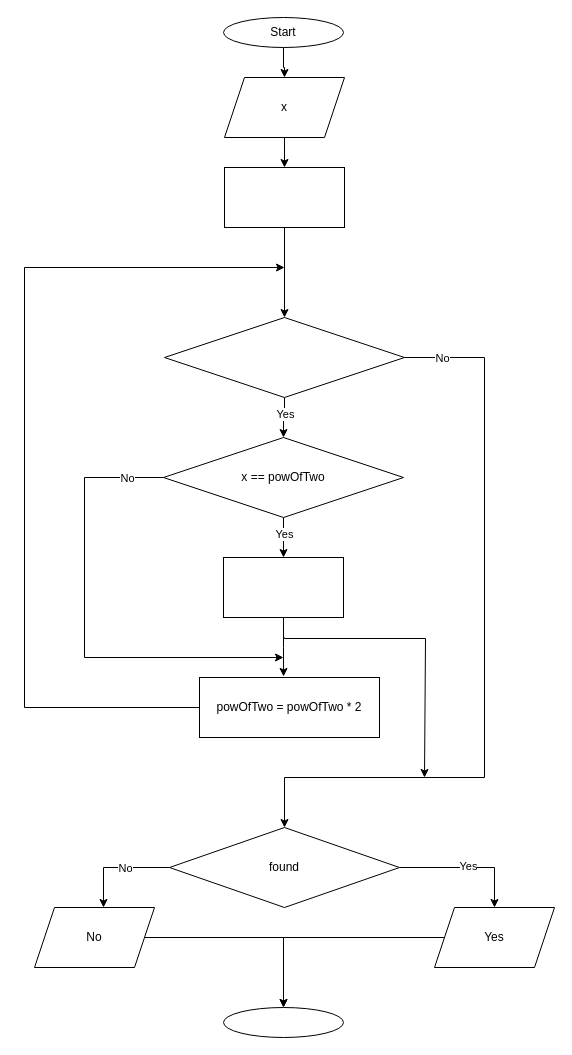
This 572x1055 diagram has some shape labels left out. Each missing label, with the centre of its shape:
End: (283,1022)
found = true;: (283,587)
powOfTwo <= x: (284,357)
powOfTwo = 2 found = false: (284,197)
